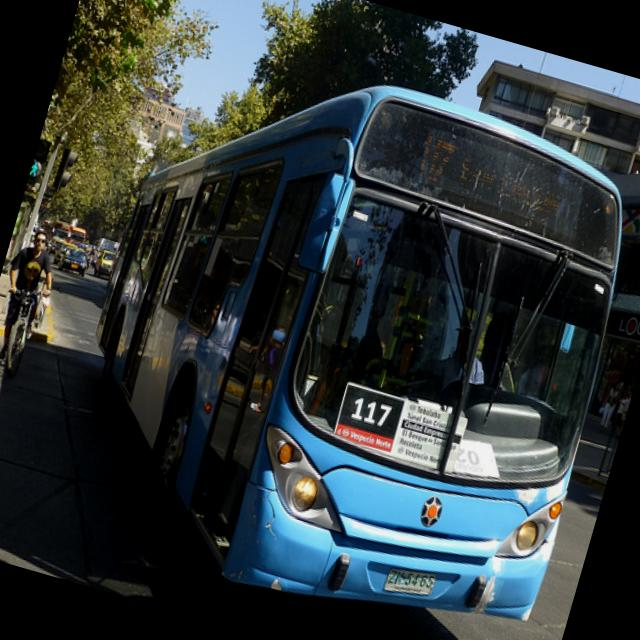Vehicle: (40, 23, 640, 640), (56, 246, 90, 276), (52, 238, 80, 270), (92, 247, 115, 280), (48, 236, 66, 258)
